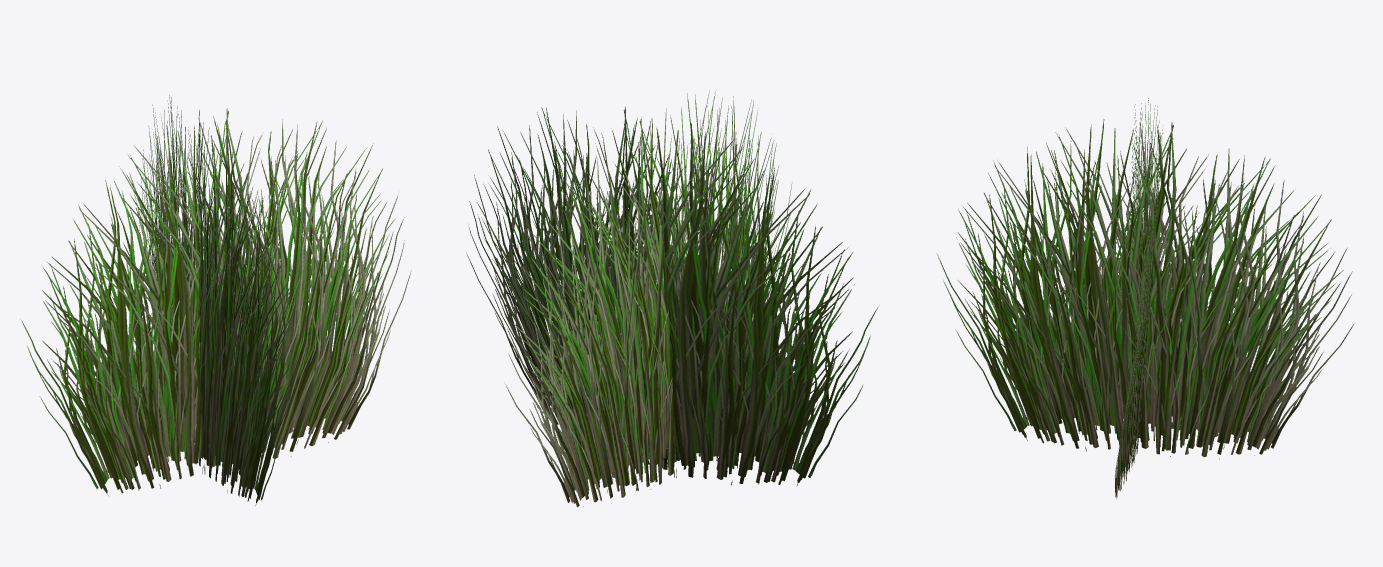
The model's file is Grass_01.FBX.
3 renders of one model, left to right at view 1: azimuth 30°, elevation 25°; view 2: azimuth 150°, elevation 25°; view 3: azimuth 270°, elevation 25°, orthographic. The views are drawn at different scales.
Visible parts, largest first — view 1: Grass_01; view 2: Grass_01; view 3: Grass_01.
Boxes of the visible parts, bbox=[...] form: Grass_01: bbox=[20, 95, 411, 505]; Grass_01: bbox=[466, 90, 878, 507]; Grass_01: bbox=[936, 98, 1355, 498].
Size of the model in its own units: 73.15 by 62.7 by 71.43.
